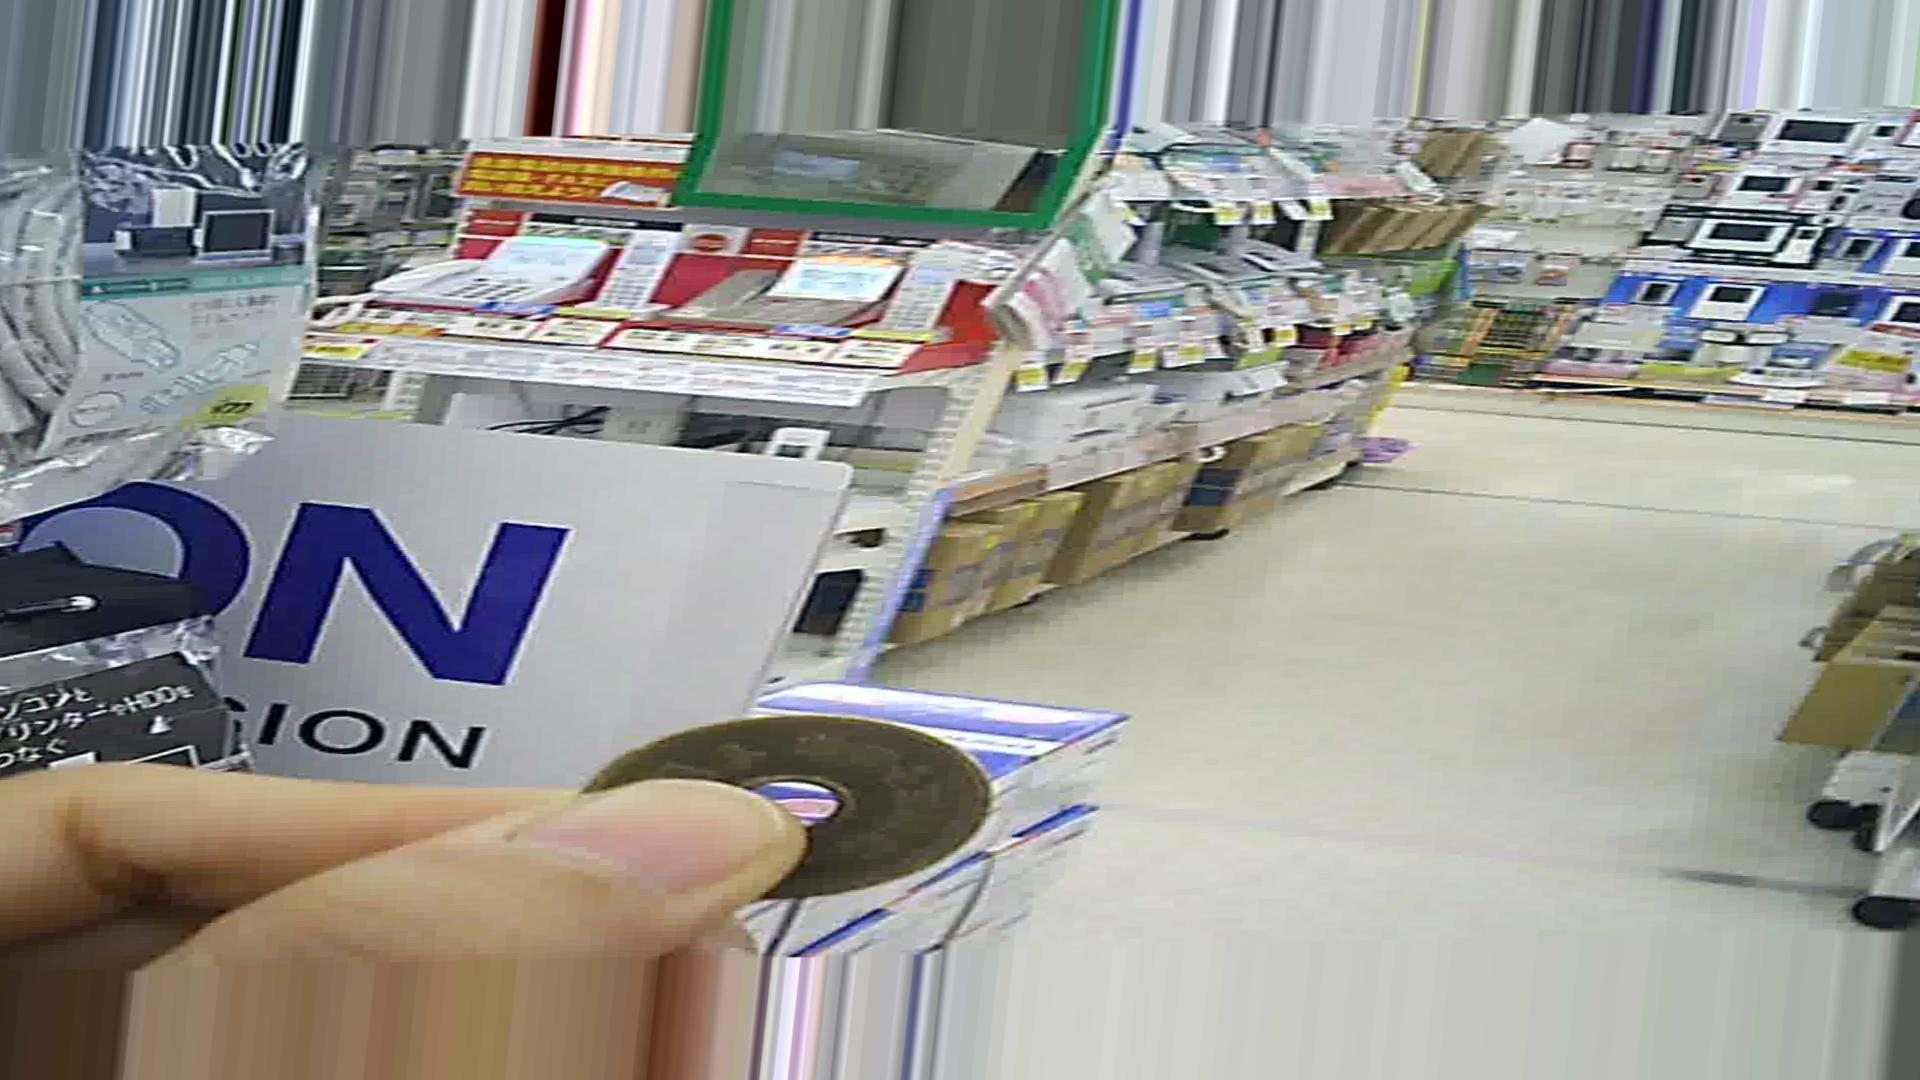5 Yen: (584, 692, 1006, 909)
